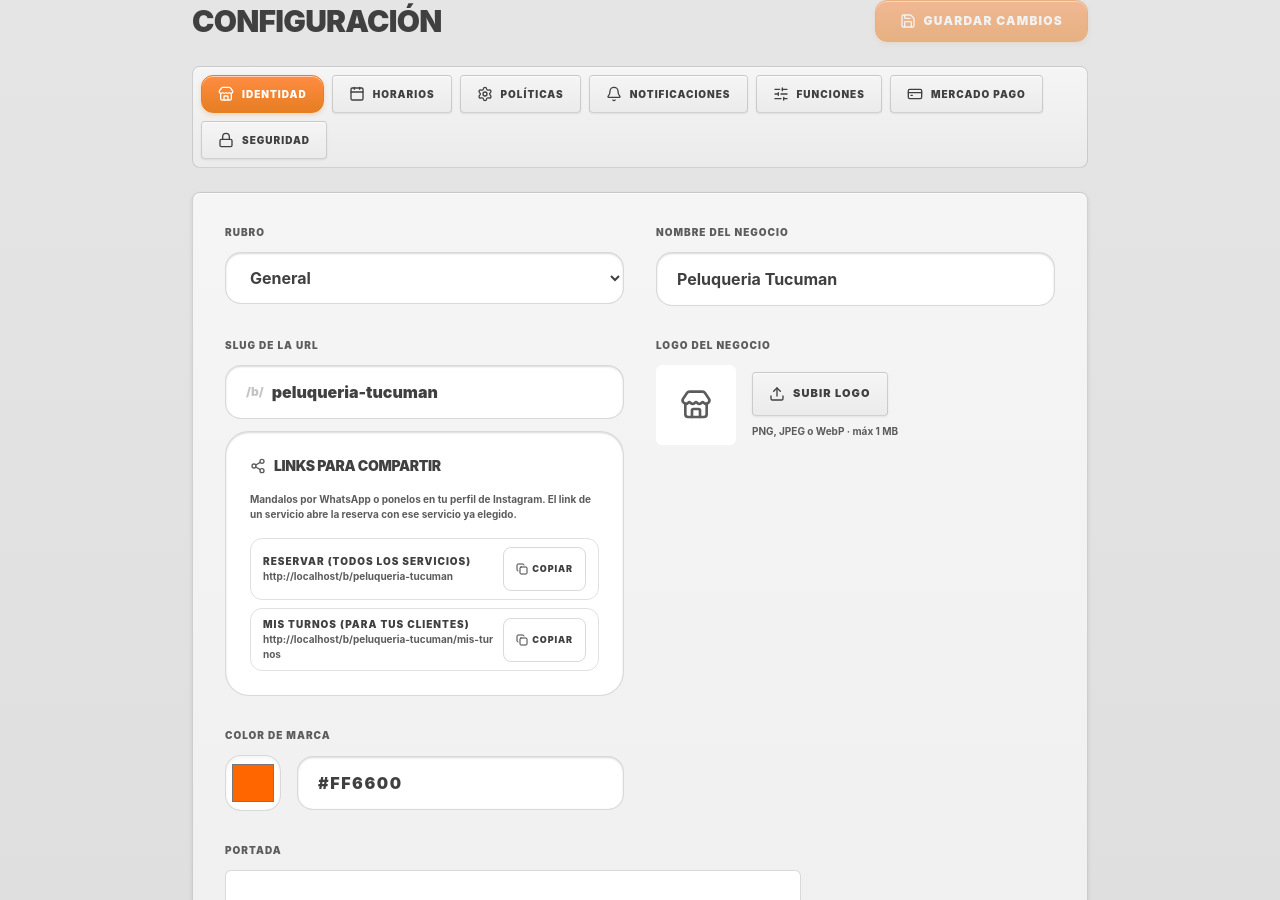
Test: SettingsPage - horarios (FF-08) › no hay "+ Bloque": un dia cerrado se abre con un solo periodo
Click the button "Horarios": {"x": 392, "y": 94} x1=332 y1=75 x2=452 y2=113
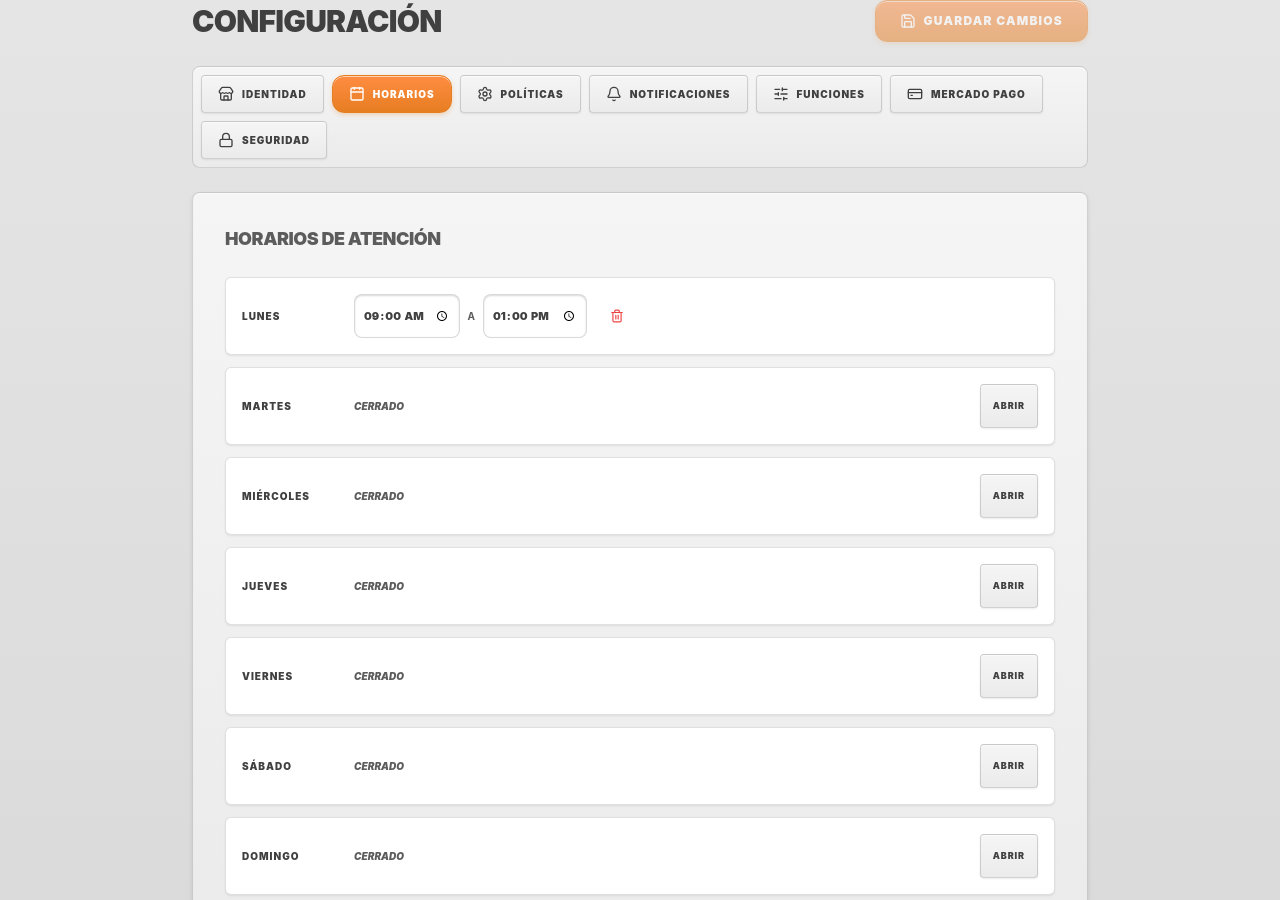
Click the button with aria-label "Abrir Martes": {"x": 1009, "y": 406} x1=980 y1=384 x2=1038 y2=428
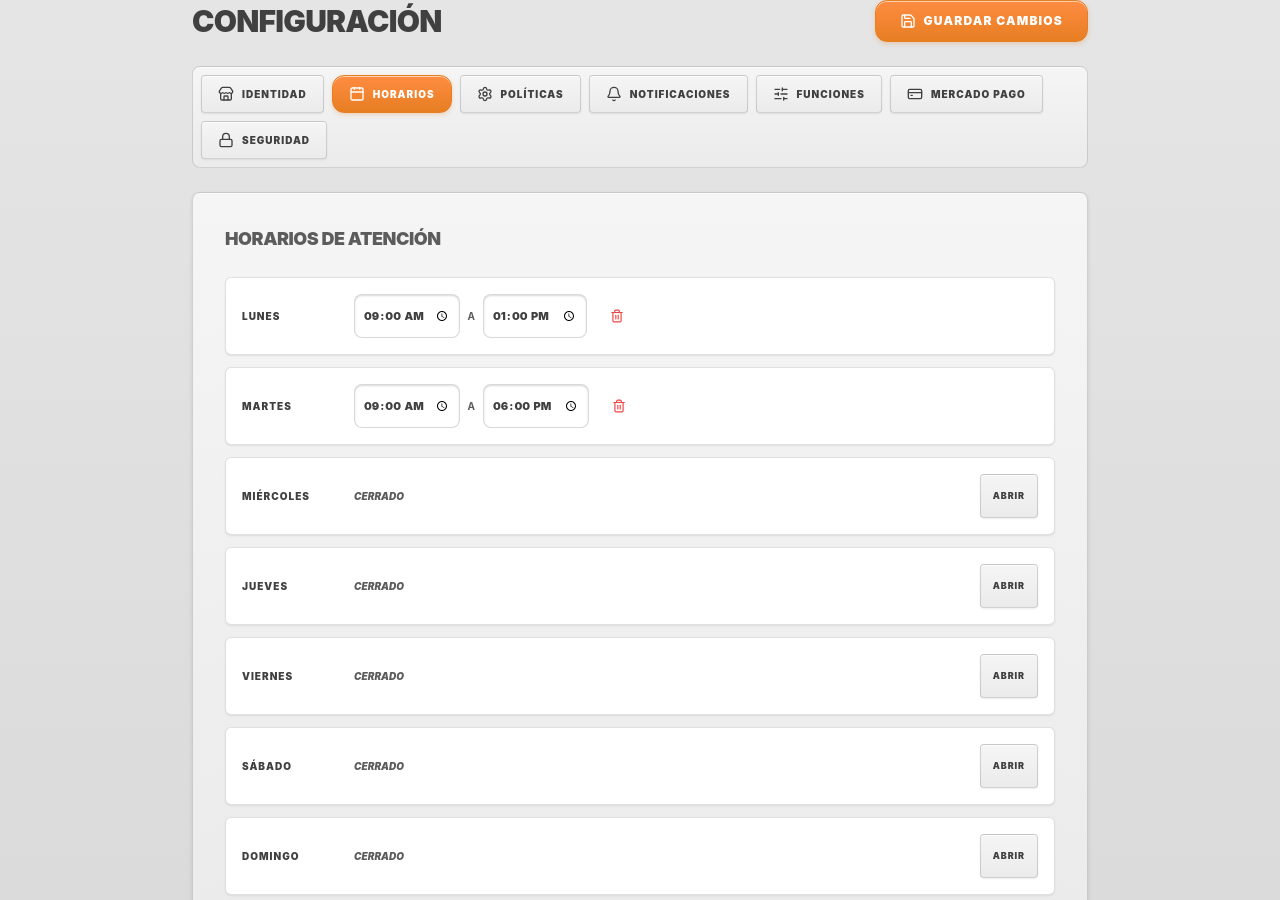
Expected: the time field named "Apertura Martes" holds "09:00", x1=354 y1=384 x2=460 y2=428
Expected: the time field named "Cierre Martes" holds "18:00", x1=483 y1=384 x2=588 y2=428
